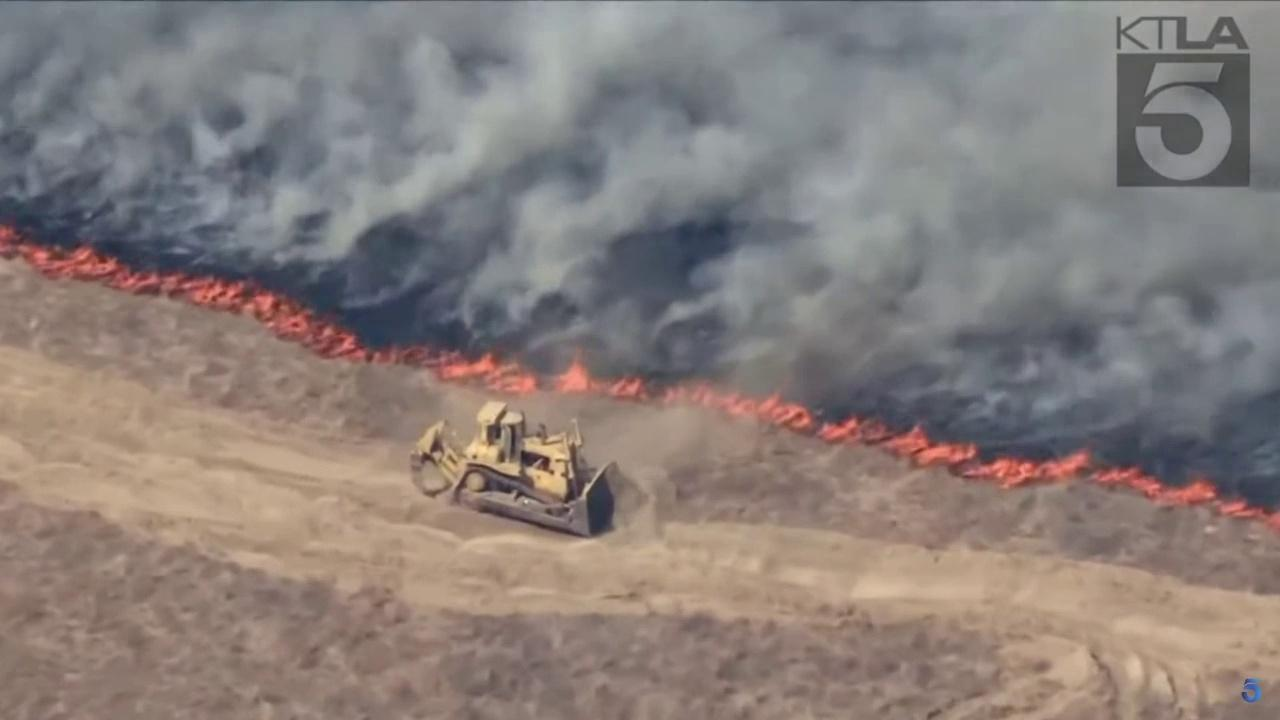fire: (0, 216, 1280, 533)
smoke: (0, 0, 1280, 463)
